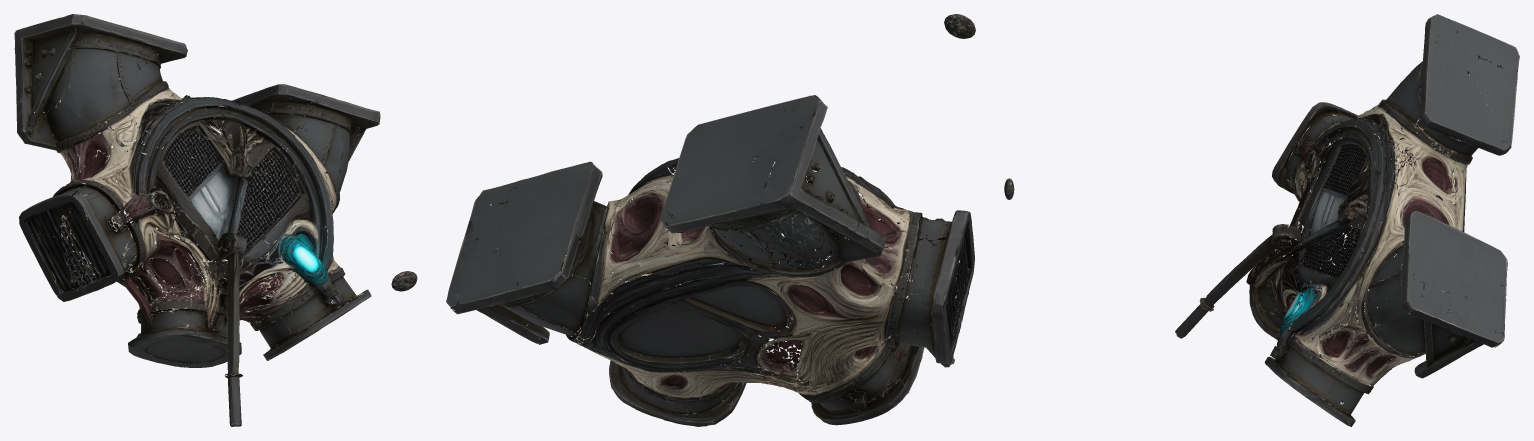
Rendered from hazard_controller_air_scrub_diverter.glb.
3 views of the same model, side by side, from view 1: azimuth 30°, elevation 25°; view 2: azimuth 150°, elevation 25°; view 3: azimuth 270°, elevation 25° (orthographic). The views are drawn at different scales.
Visible parts, largest first — view 1: node_0, HB_PULSE_00; view 2: node_0, HB_PULSE_00; view 3: node_0.
Boxes of the visible parts, <box> form: node_0: <box>14,14,380,426</box>; HB_PULSE_00: <box>391,271,417,291</box>; node_0: <box>446,95,974,426</box>; HB_PULSE_00: <box>944,14,975,38</box>; node_0: <box>1175,14,1519,426</box>.
Size of the model in its own units: 0.9652 by 0.8472 by 1.21.
Materials: 1 (1 with a texture image).
